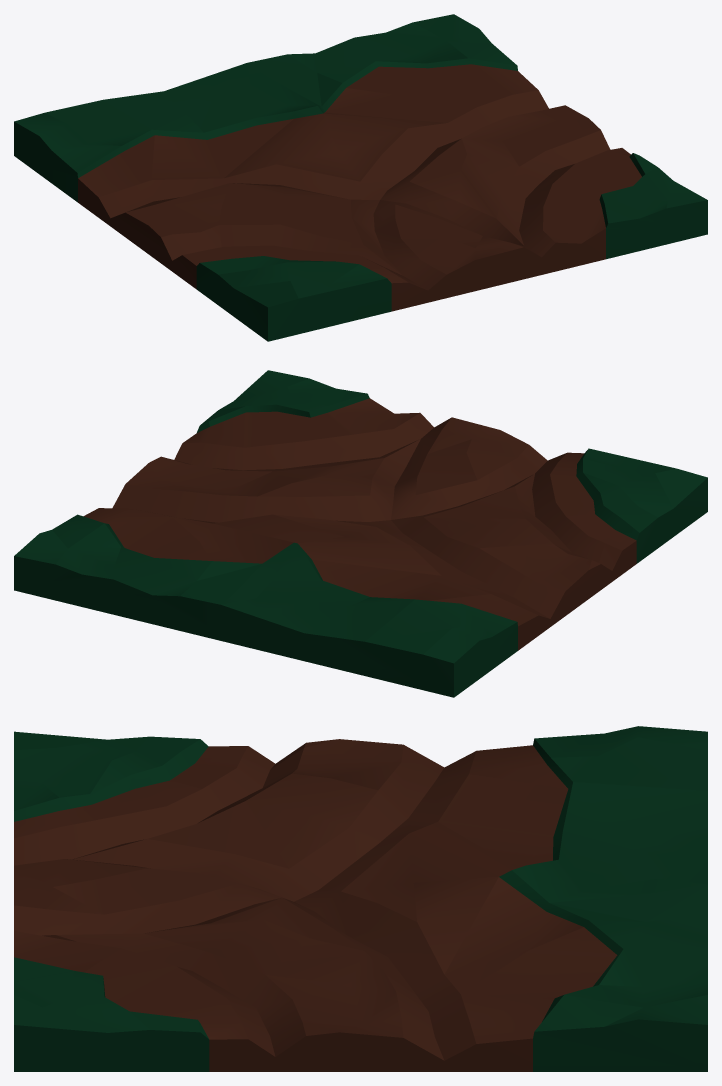
File: Ground_Road_Crossroads_B.fbx
The picture shows the model from 3 angles, top to bottom: view 1: azimuth 30°, elevation 25°; view 2: azimuth 150°, elevation 25°; view 3: azimuth 270°, elevation 25°; orthographic projection. The views are drawn at different scales.
Visible parts, largest first — view 1: Ground_Road_Crossroads_B; view 2: Ground_Road_Crossroads_B; view 3: Ground_Road_Crossroads_B.
Part boxes in pixels (x1,y1,x2,y2): Ground_Road_Crossroads_B: [14, 14, 707, 341]; Ground_Road_Crossroads_B: [14, 370, 707, 697]; Ground_Road_Crossroads_B: [14, 726, 707, 1071].
Bounding box in the file's own units: 147 × 14.69 × 147.
